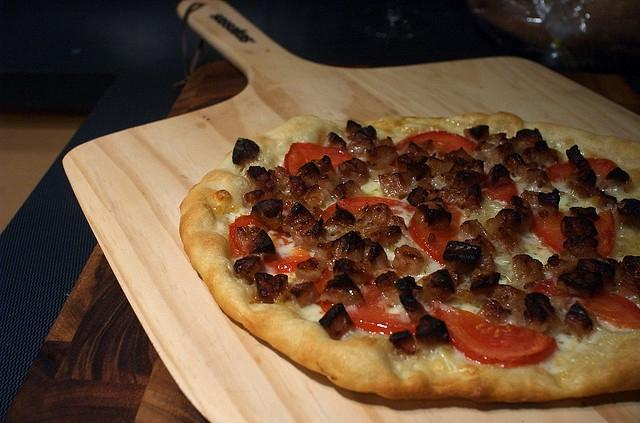tomato: (433, 300, 559, 368), (530, 279, 638, 329), (530, 209, 616, 260), (346, 284, 420, 337), (408, 206, 463, 266), (320, 196, 414, 223), (283, 142, 355, 176), (228, 215, 283, 258), (395, 131, 477, 153), (264, 253, 312, 274), (482, 176, 518, 204), (542, 158, 580, 182), (585, 158, 618, 176), (314, 267, 334, 296)
